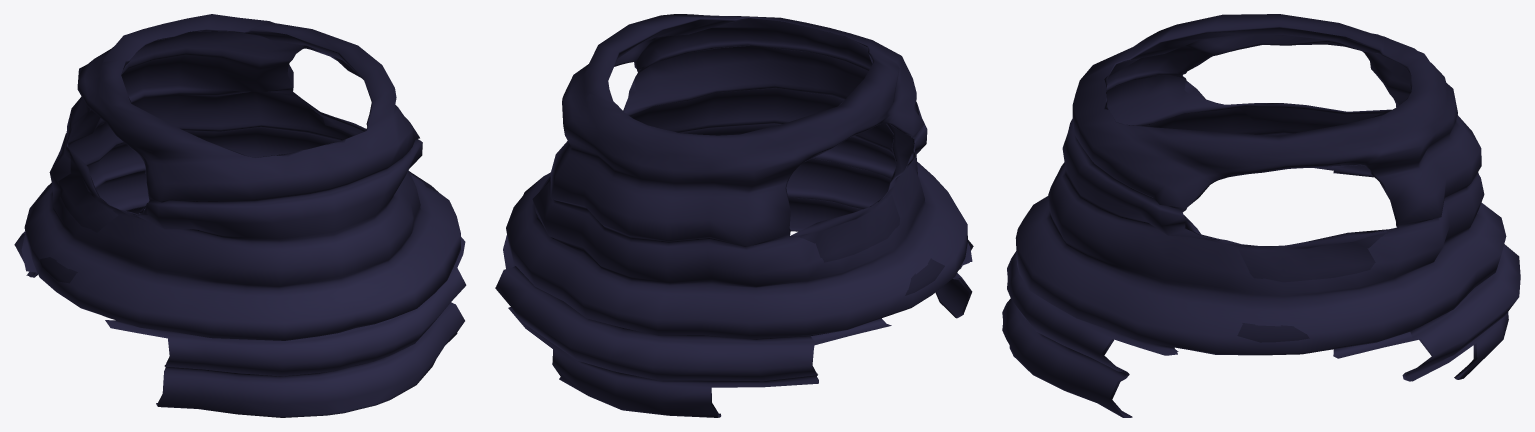
The model's file is ropa_plumas.glb.
The picture shows the model from 3 angles, left to right: view 1: azimuth 30°, elevation 25°; view 2: azimuth 150°, elevation 25°; view 3: azimuth 270°, elevation 25°; orthographic projection. The views are drawn at different scales.
Visible parts, largest first — view 1: pieza; view 2: pieza; view 3: pieza.
Part boxes in pixels (x1=…): pieza: x1=14, y1=14, x2=466, y2=417; pieza: x1=495, y1=14, x2=973, y2=417; pieza: x1=1002, y1=14, x2=1520, y2=417.
Bounding box in the file's own units: 1.2 × 0.7462 × 1.33.
